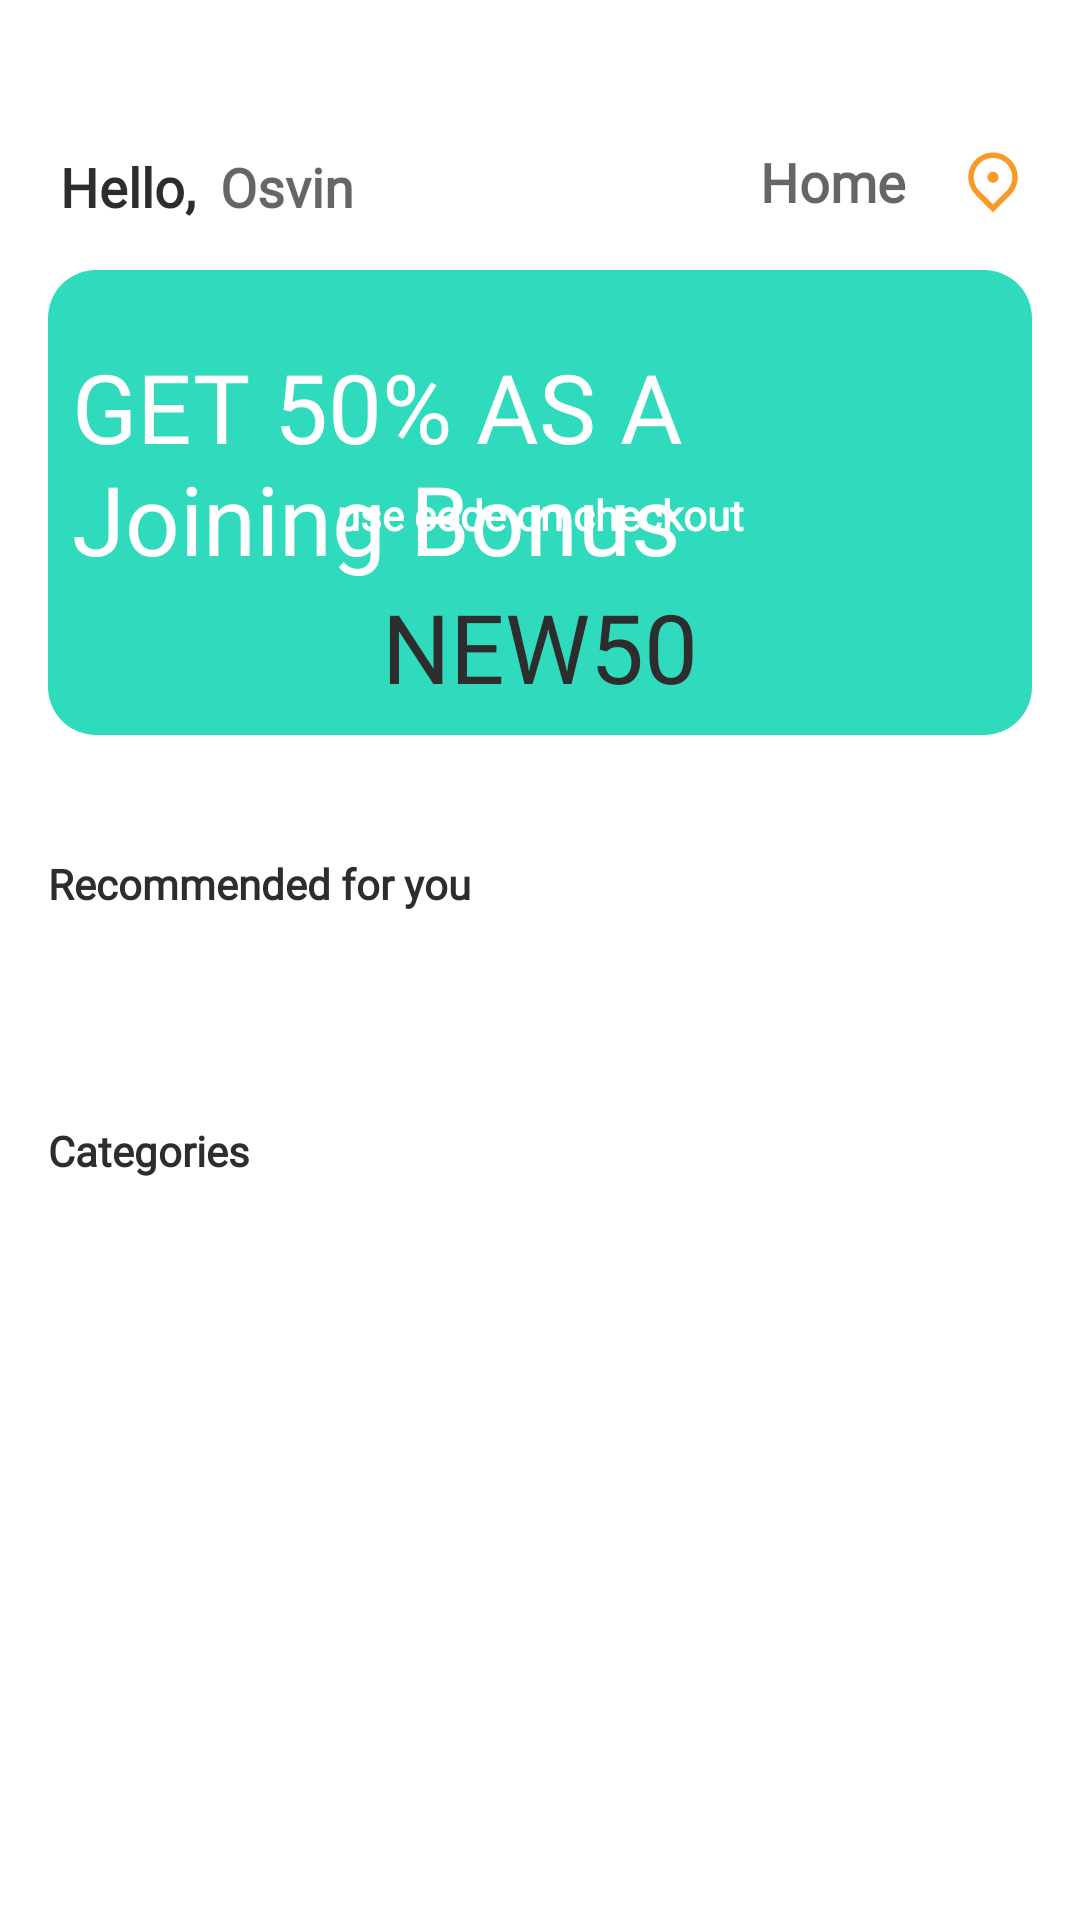

Icons on this 1080px×1920px Android screen, each with the point to tap as (x=x, y=y):
location: (x=993, y=182)
